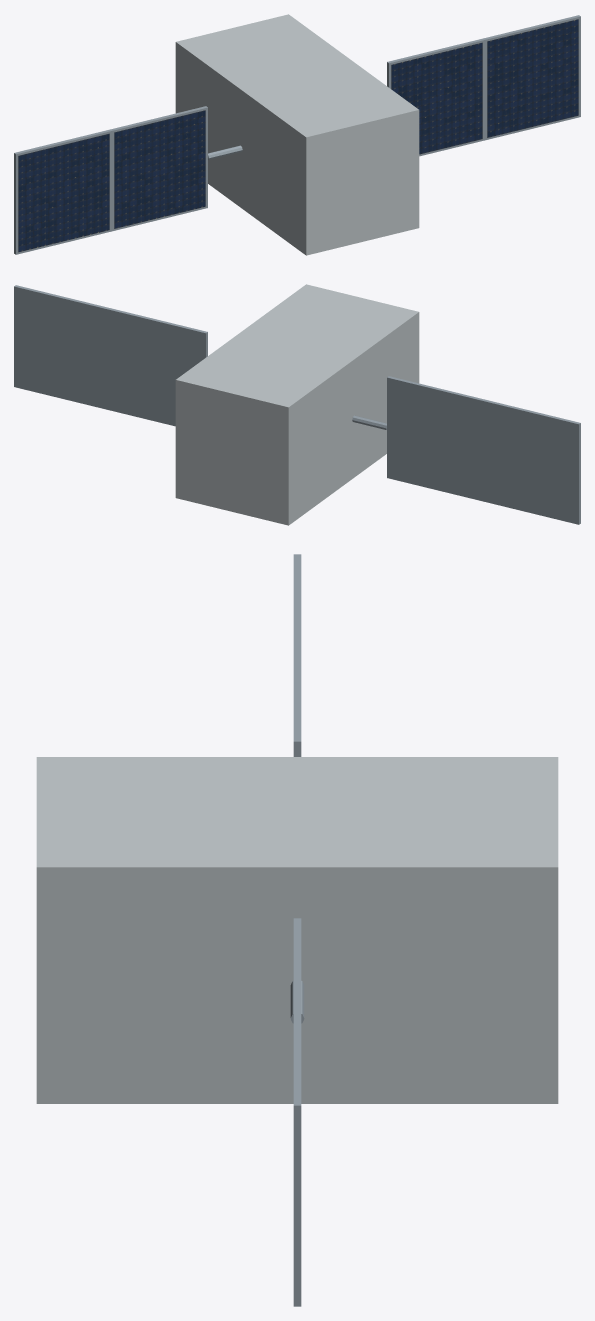
Rendered from ref-meridian-37212.glb.
3 renders of one model, top to bottom at view 1: azimuth 30°, elevation 25°; view 2: azimuth 150°, elevation 25°; view 3: azimuth 270°, elevation 25°, orthographic. The views are drawn at different scales.
Parts seen in each view (by area): view 1: Spacecraft body, Photovoltaic laminates (×4), Array frame (×4); view 2: Spacecraft body, Array frame (×4); view 3: Spacecraft body, Array frame (×2).
Boxes of the visible parts, bbox=[...] form: Spacecraft body: bbox=[175, 14, 419, 255]; Photovoltaic laminates (×4): bbox=[18, 19, 578, 252]; Array frame (×4): bbox=[14, 15, 580, 254]; Spacecraft body: bbox=[175, 284, 419, 525]; Array frame (×4): bbox=[14, 285, 580, 524]; Spacecraft body: bbox=[36, 757, 558, 1103]; Array frame (×2): bbox=[293, 648, 301, 1306].
Size of the model in its own units: 10 by 2 by 4.
Materials: 3 (1 with a texture image).
